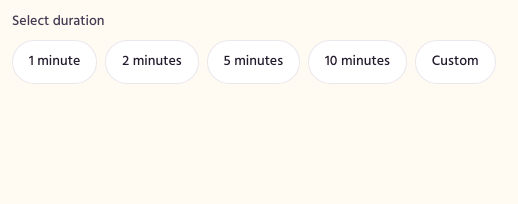
DurationPicker › rejects seconds above 59 as invalid
Click the button "Custom" at coordinates (455, 62), box [415, 40, 496, 84]
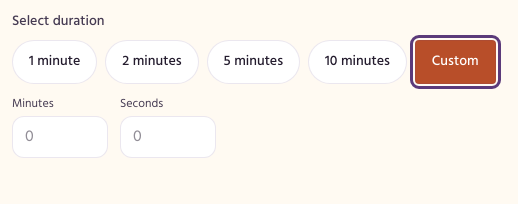
Type "2" into the number field labelled "Minutes" at coordinates (60, 137), box [12, 116, 108, 158]
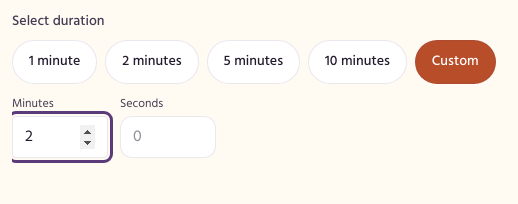
Type "75" into the number field labelled "Seconds" at coordinates (168, 137), box [120, 116, 216, 158]
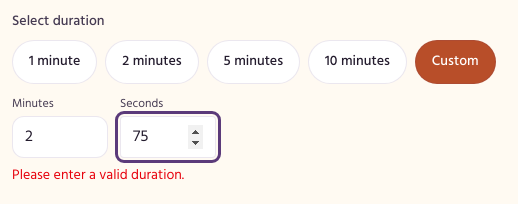
Result: the message reads "Please enter a valid duration." at [12, 164, 184, 187]
